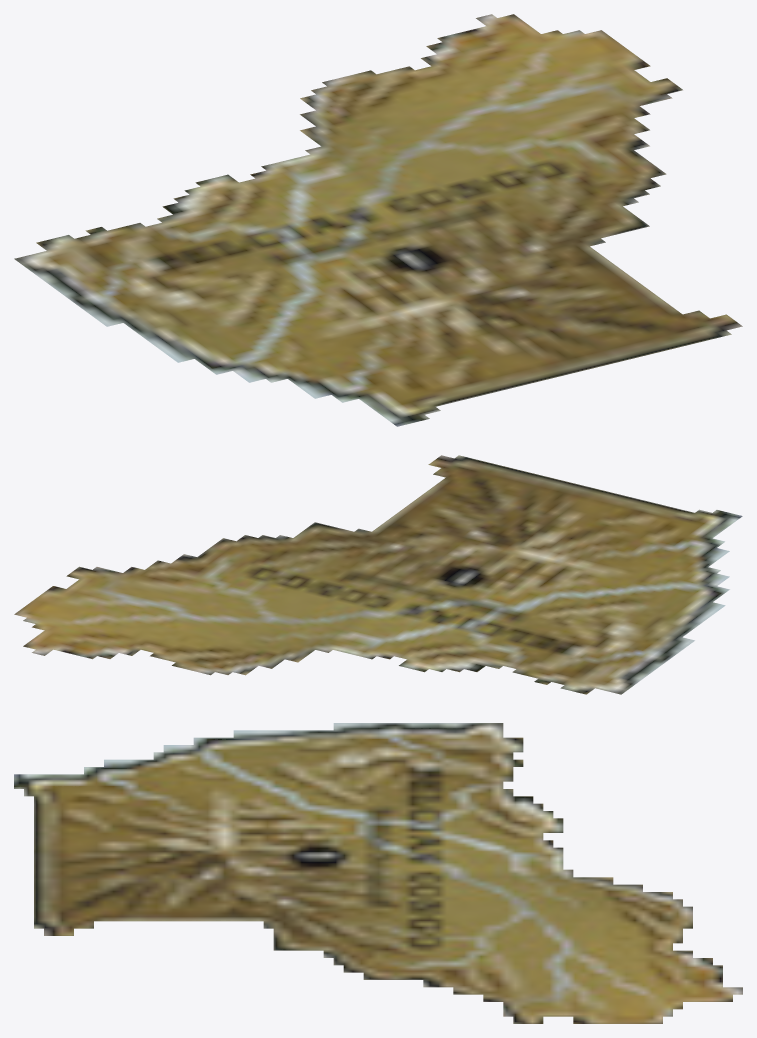
File: belgian-congo.gltf
3 views of the same model, one above another, from view 1: azimuth 30°, elevation 25°; view 2: azimuth 150°, elevation 25°; view 3: azimuth 270°, elevation 25° (orthographic). The views are drawn at different scales.
Parts seen in each view (by area): view 1: Plane; view 2: Plane; view 3: Plane.
Boxes of the visible parts, x1,y1,x2,y2 form: Plane: [14, 14, 742, 426]; Plane: [14, 455, 742, 694]; Plane: [14, 723, 742, 1023].
Size of the model in its own units: 0.4048 by 0 by 0.4146.
1 material, 1 textured.
